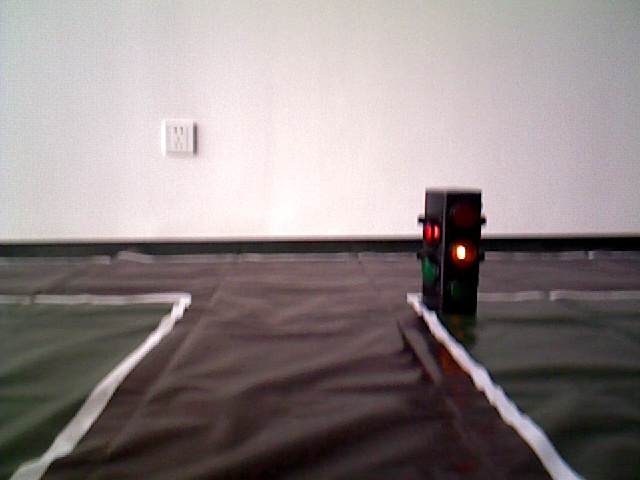yellow: (428, 191, 478, 310)
